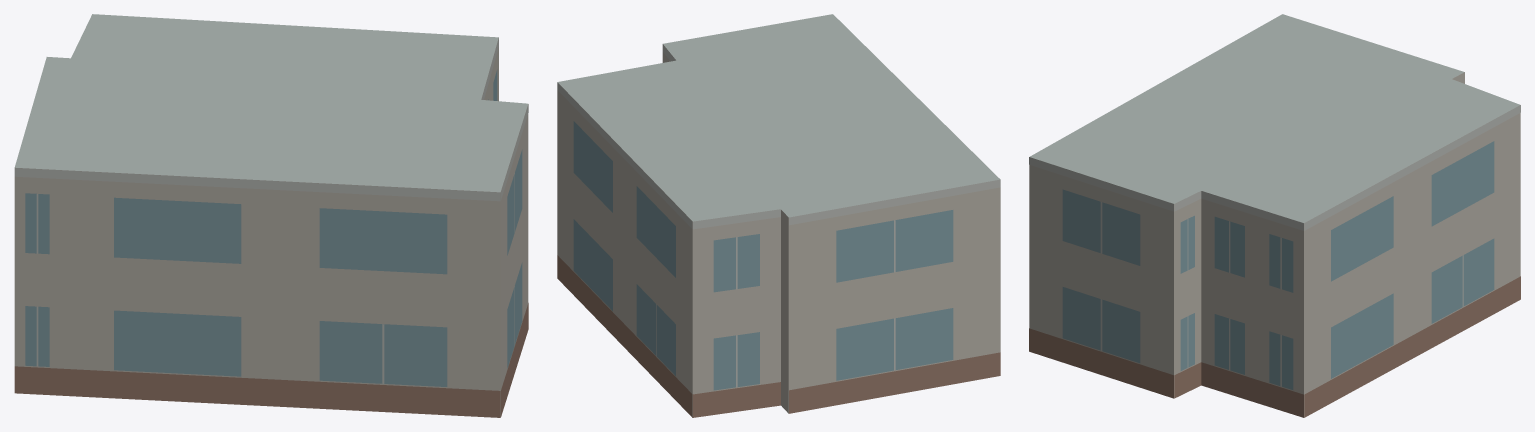
Rendered from survey-upis-32654939.glb.
3 views of the same model, side by side, from view 1: azimuth 30°, elevation 25°; view 2: azimuth 150°, elevation 25°; view 3: azimuth 270°, elevation 25° (orthographic). The views are drawn at different scales.
Visible parts, largest first — view 1: survey-upis-32654939.tmp; view 2: survey-upis-32654939.tmp; view 3: survey-upis-32654939.tmp.
Boxes of the visible parts, x1,y1,x2,y2 form: survey-upis-32654939.tmp: (14,14,528,417); survey-upis-32654939.tmp: (557,14,1000,417); survey-upis-32654939.tmp: (1029,14,1520,417).
Size of the model in its own units: 14.07 by 6.1 by 13.97.
